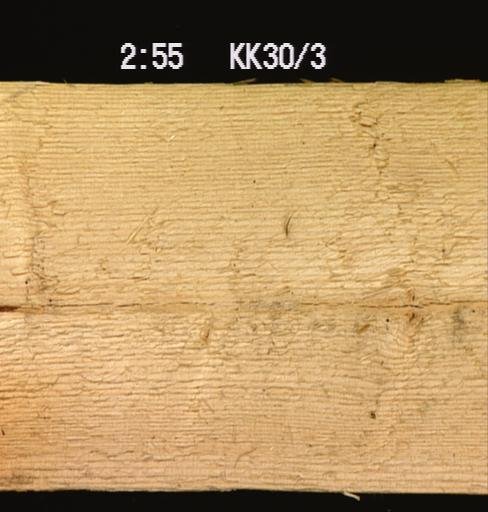split: (0, 288, 487, 317)
